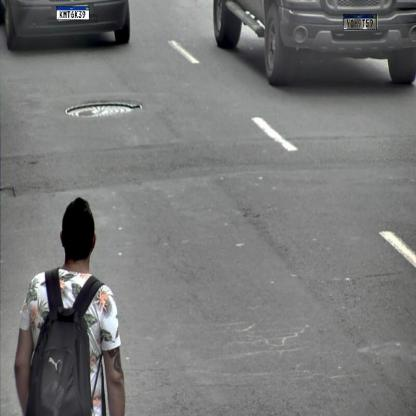PlacaM: (343, 14, 377, 30), (56, 6, 90, 20)
